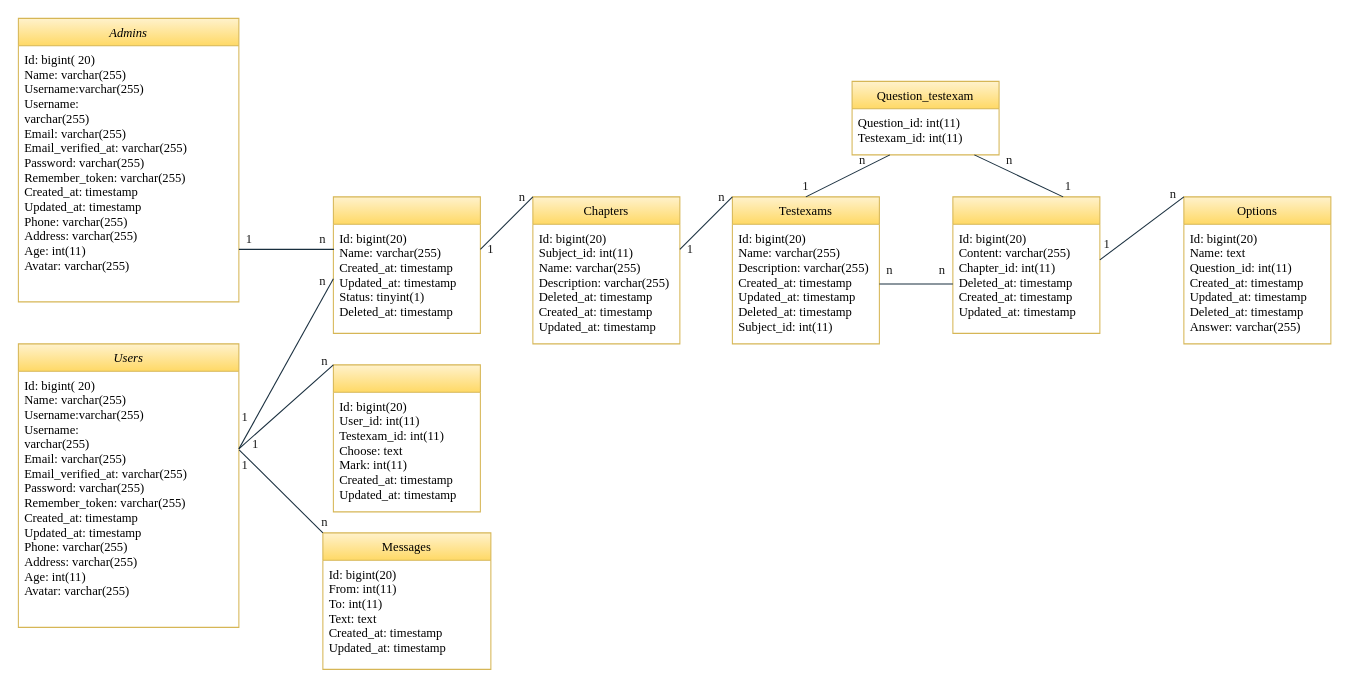
The diagram is 1349 pixels wide and 691 high, and some of its shapes have lost their labels. The box of each missing label's shape, as (x1, y1, x2, y2) in pixels:
History: (332, 364, 480, 512)
Questions: (952, 196, 1100, 333)
Subjects: (332, 196, 480, 333)
